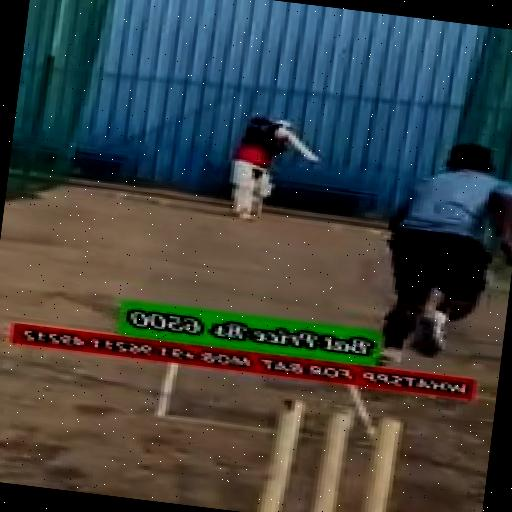Cricket bat: (292, 134, 319, 161)
